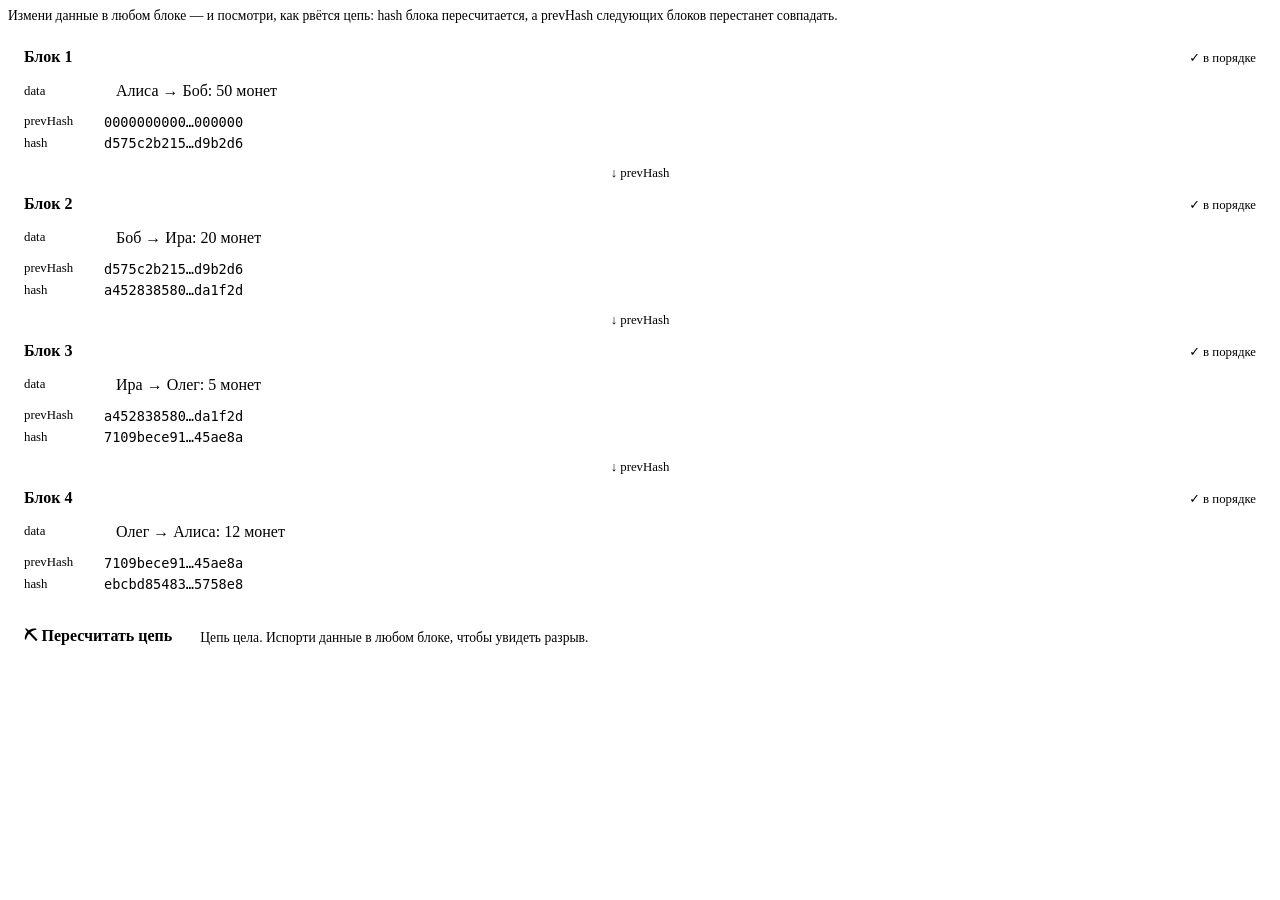
Test case: mining repairs the chain, explains why, marks trainer done and awards xp
The image size is (1280, 900).
Replace the text in the 2nd field labelled "data" with "подделка" at (680, 238), box [104, 221, 1256, 255]
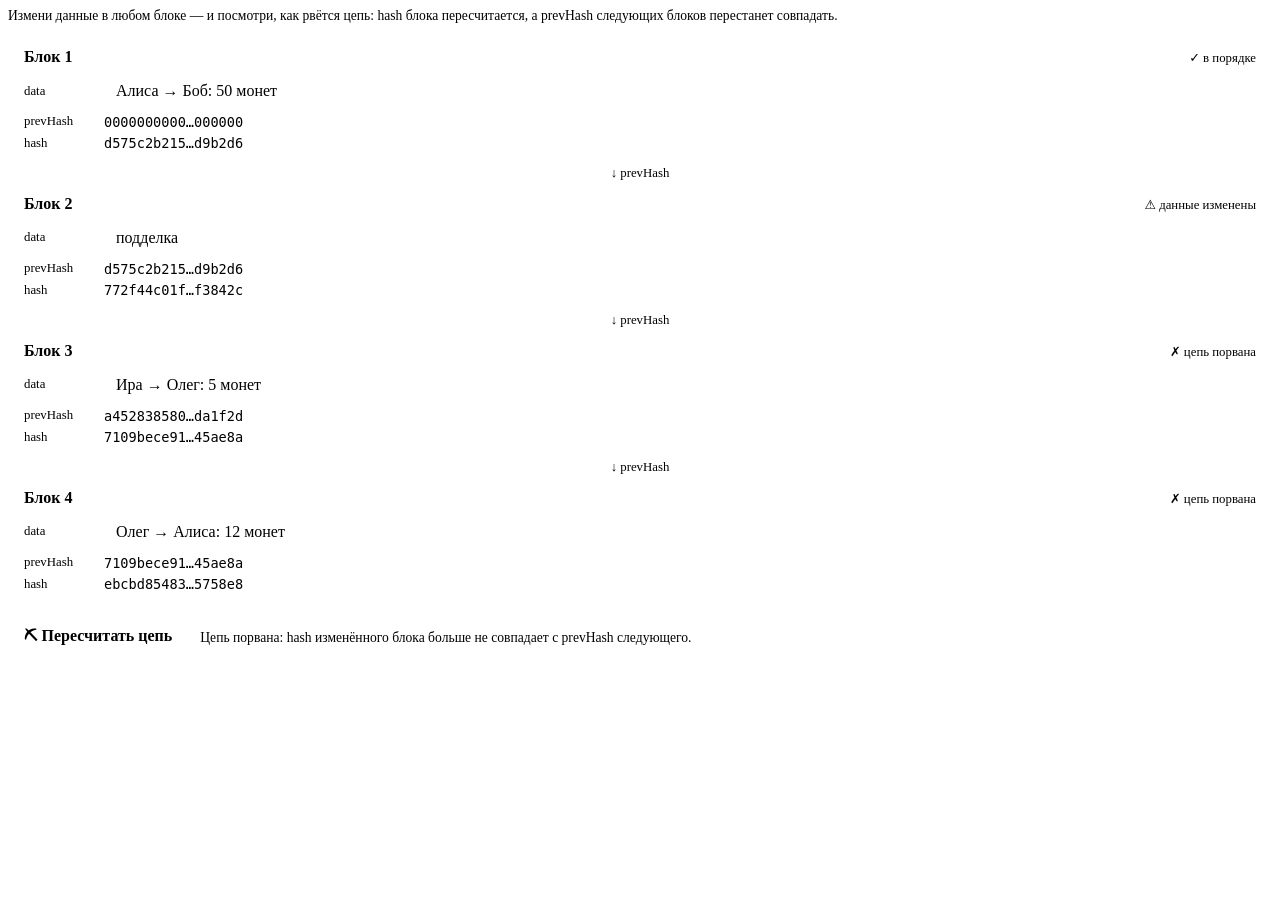
Expected: the number of elements with class "bcd-broken" is 2, [8, 330, 1272, 457]; [8, 477, 1272, 604]
Click the button "⛏ Пересчитать цепь" at (98, 638), box [8, 616, 188, 659]
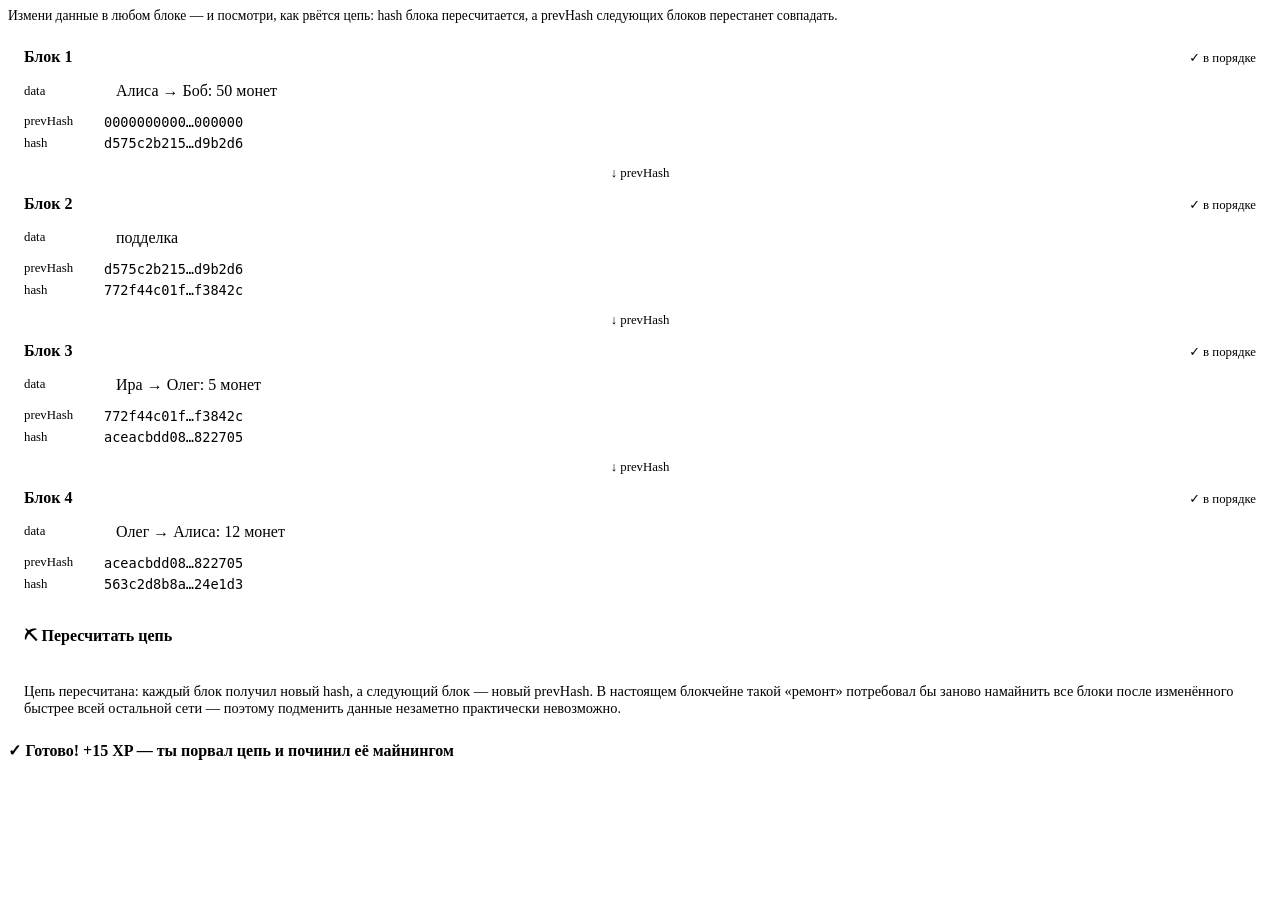
Expected: the text "Цепь пересчитана" is shown, [24, 683, 1233, 716]
Expected: the text "✓ Готово! +15 XP — ты порвал цепь и починил её майнингом" is shown, [8, 742, 454, 759]
